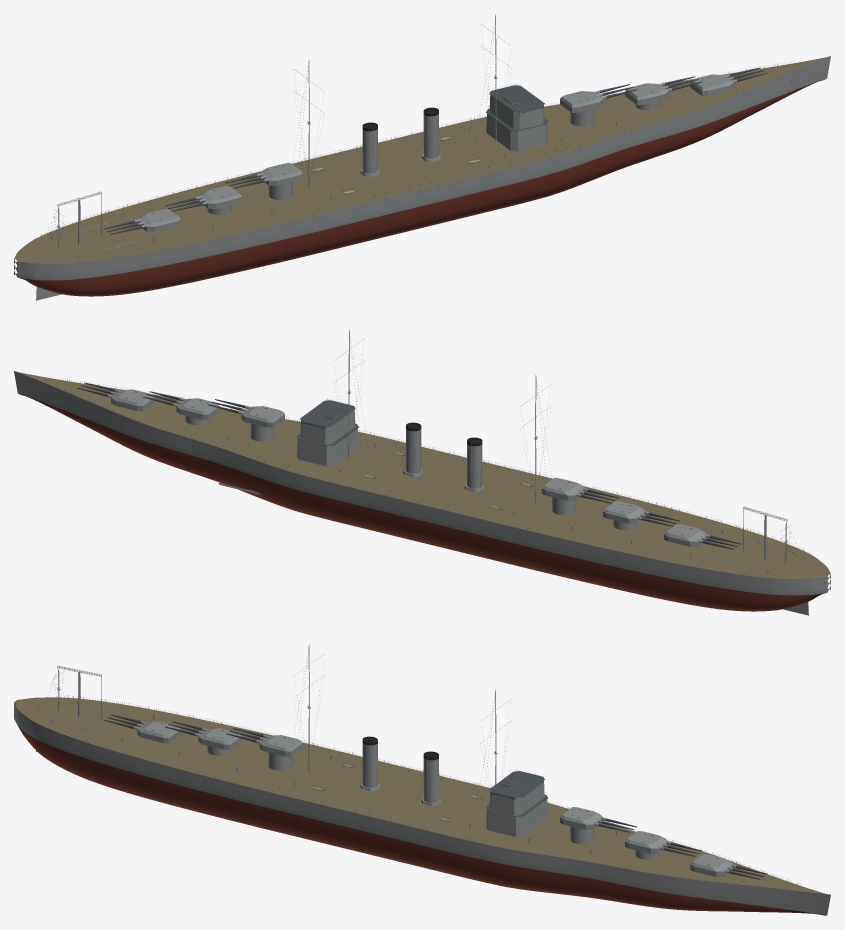
Rendered from republic_bb41.glb.
The picture shows the model from 3 angles, top to bottom: view 1: azimuth 30°, elevation 25°; view 2: azimuth 150°, elevation 25°; view 3: azimuth 330°, elevation 25°; orthographic projection.
Visible parts, largest first — view 1: Republic class; view 2: Republic class; view 3: Republic class.
Boxes of the visible parts, bbox=[...] form: Republic class: bbox=[14, 14, 830, 300]; Republic class: bbox=[14, 329, 830, 615]; Republic class: bbox=[14, 644, 830, 915].
Size of the model in its own units: 420 by 86.9 by 53.09.
9 materials, 8 textured.
